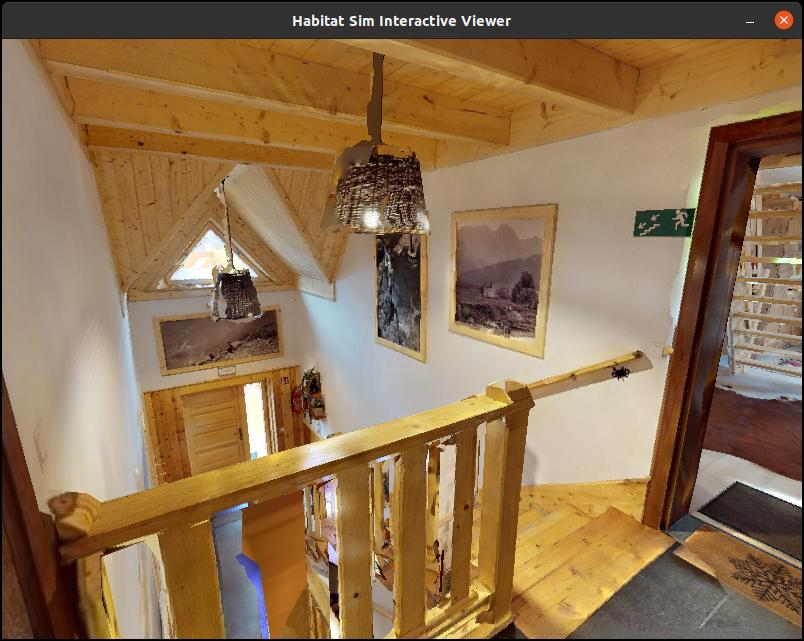door-frame: (675, 115, 804, 601)
stairs: (96, 411, 627, 635)
